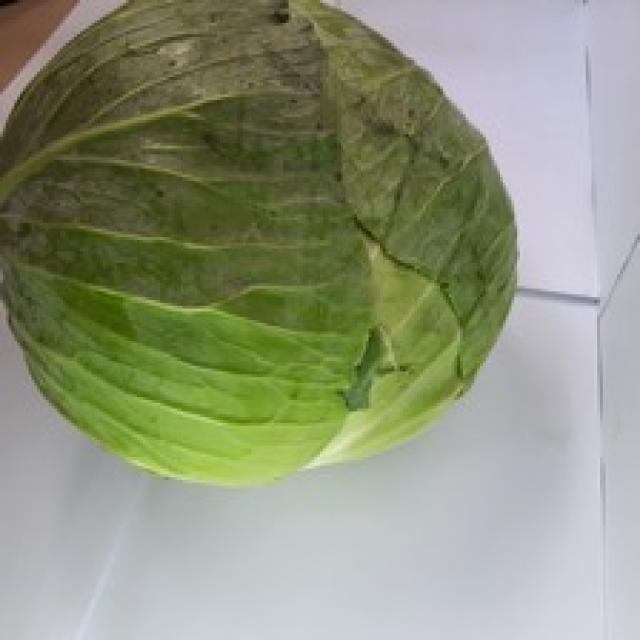Cabbage: (0, 0, 520, 486)
